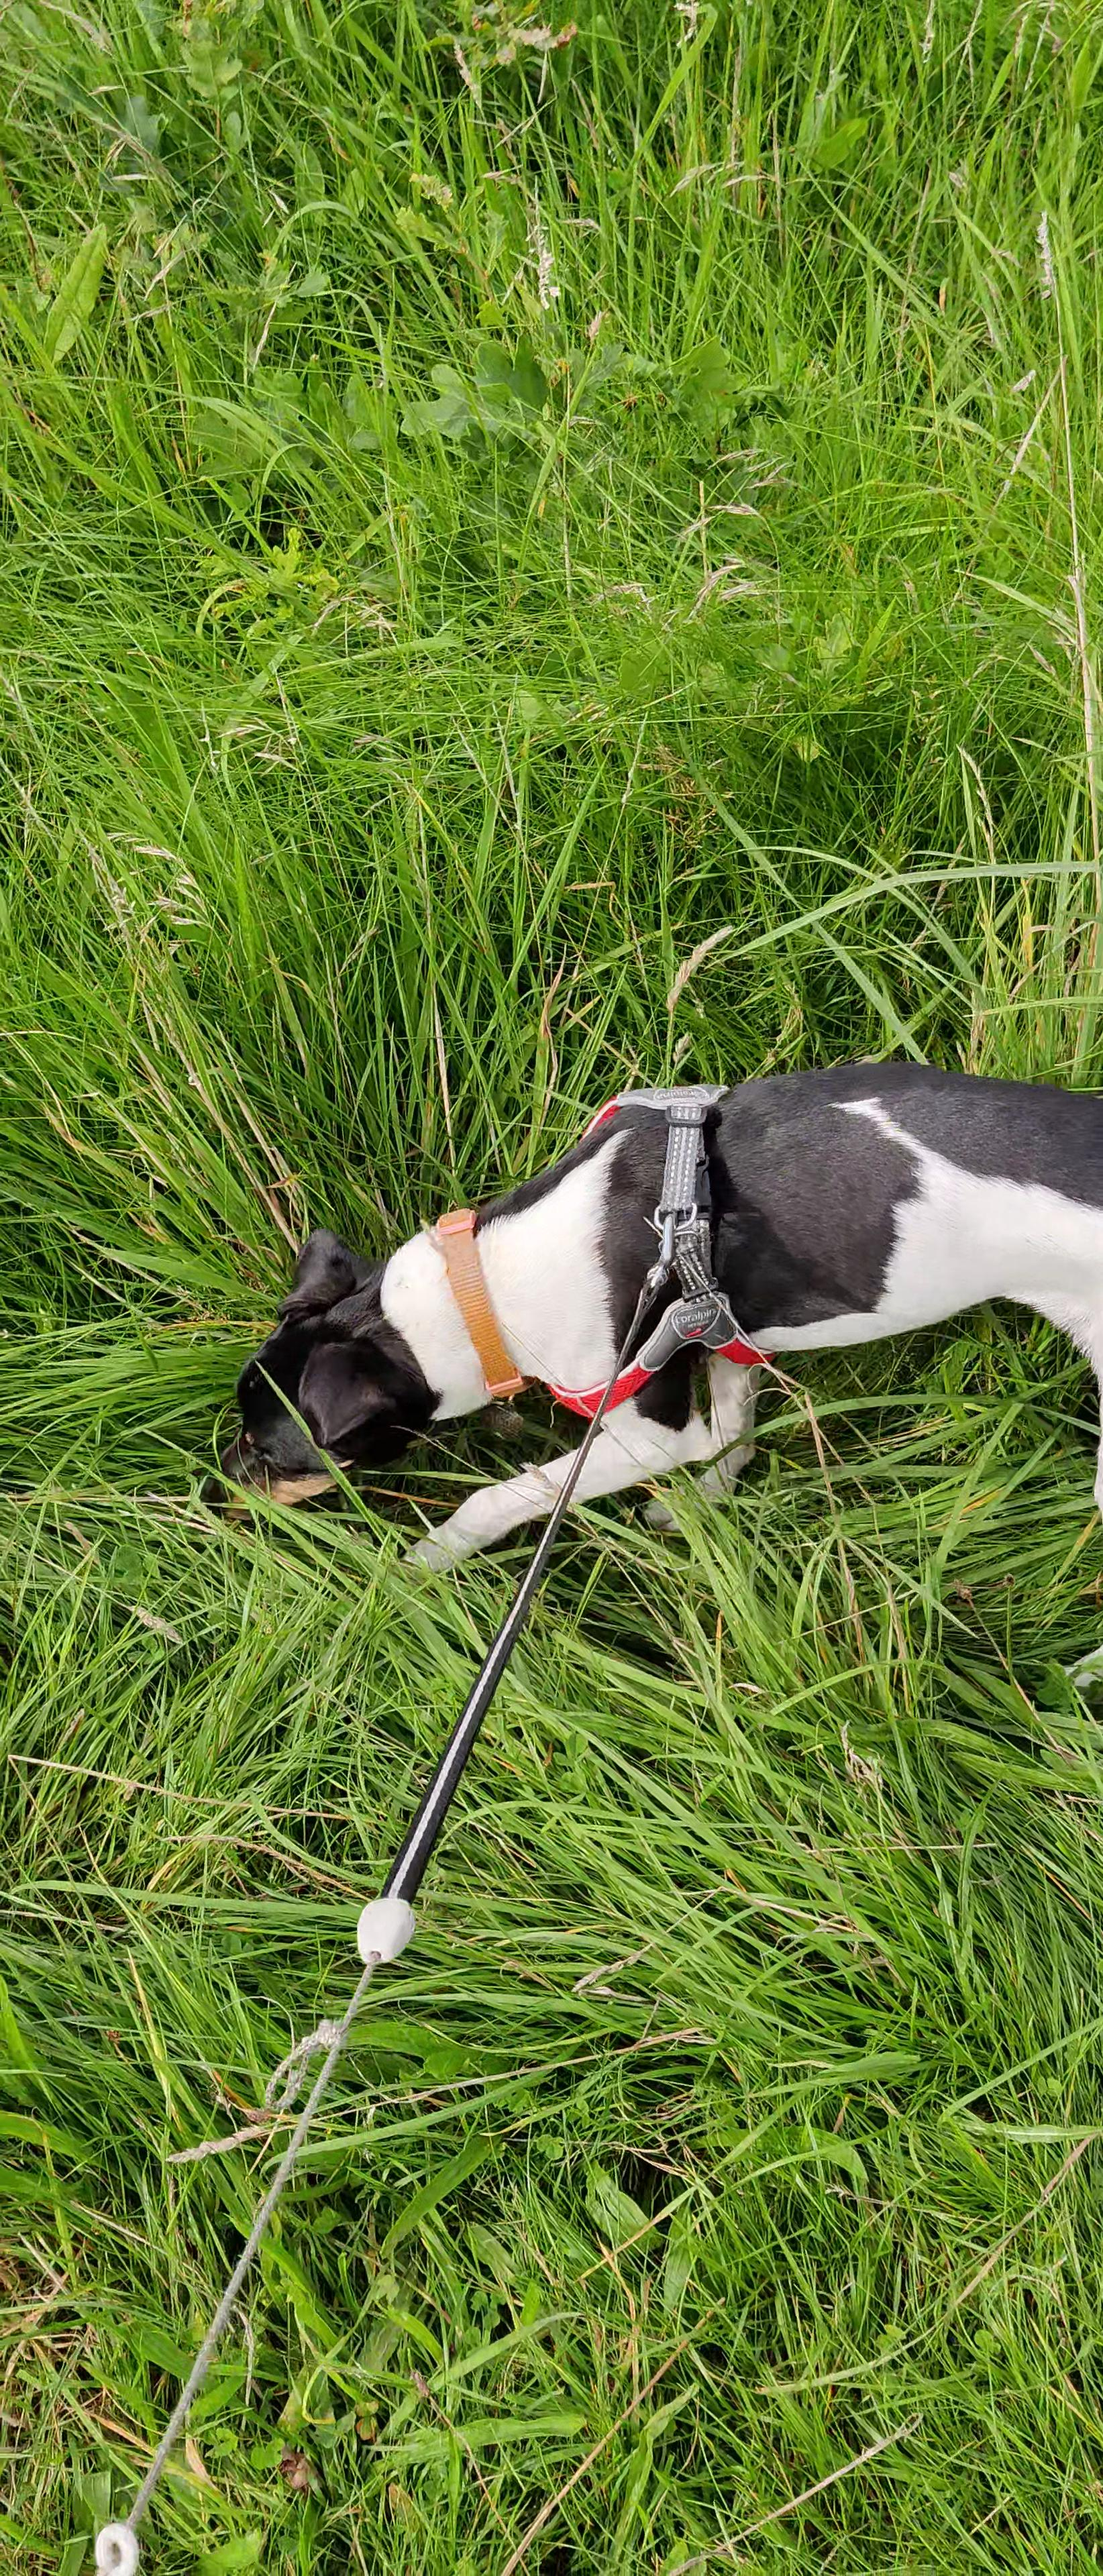Dog: (187, 1053, 1103, 1587)
